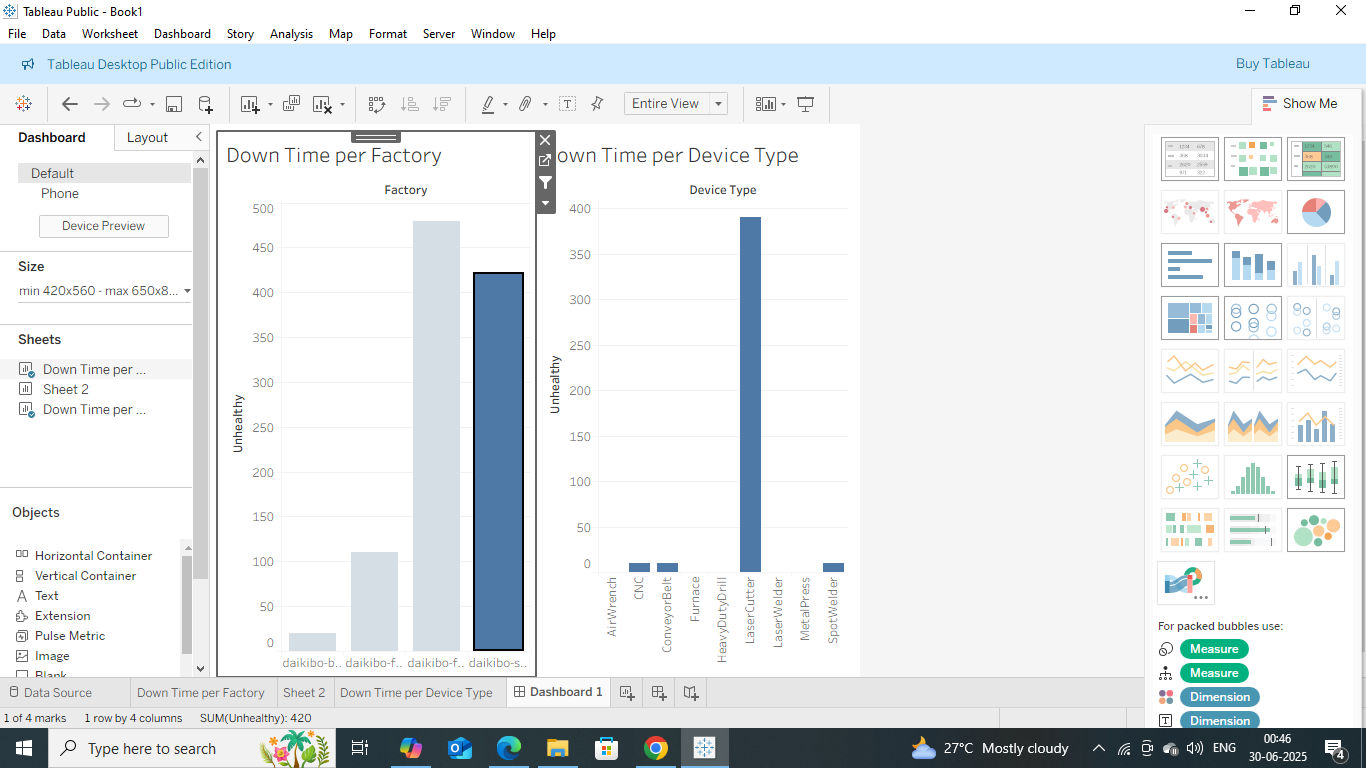

Layout of this report page (visuals, bound fields, positions):
{"tool":"tableau","page":{"name":"Dashboard 1","canvas":[650,860],"ordinal":0},"visuals":[{"type":"worksheet","title":"Down Time per Factory","mark":"Automatic","rows":["Calculation_84723994354982912"],"cols":["factory"],"box":[8,12.3,317,835.4]},{"type":"worksheet","title":"Down Time per Device Type","mark":"Automatic","rows":["Calculation_84723994354982912"],"cols":["deviceType"],"box":[325,12.3,317,835.4]}]}

Visuals, with their boxes on the page's 650x860 design canvas (x1, y1, x2, y2). These are canvas units, not pixel positions in the 1366x768 screenshot, which may show the page scaled, cropped or inside an application window:
"Down Time per Factory" worksheet: BBox(8, 12, 325, 848)
"Down Time per Device Type" worksheet: BBox(325, 12, 642, 848)
